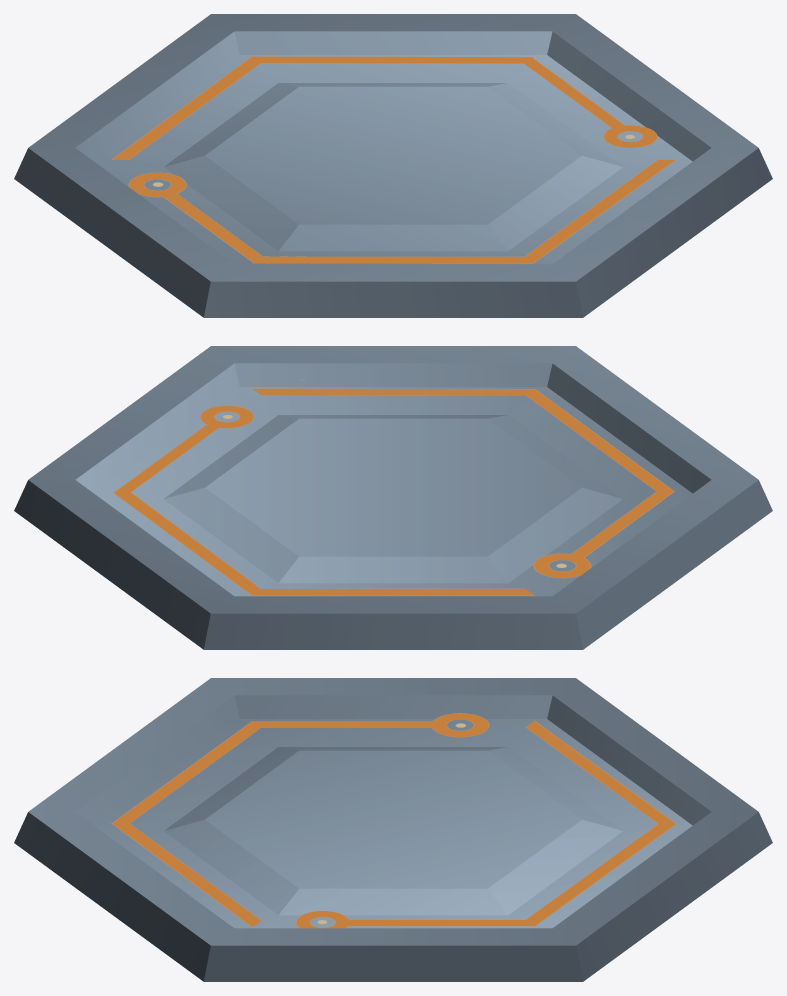
Rendered from MODEL_BaseHubProp.fbx.
The picture shows the model from 3 angles, top to bottom: view 1: azimuth 30°, elevation 25°; view 2: azimuth 150°, elevation 25°; view 3: azimuth 270°, elevation 25°; orthographic projection.
Visible parts, largest first — view 1: Cylinder; view 2: Cylinder; view 3: Cylinder.
Boxes of the visible parts, <box> form: Cylinder: <box>14,14,772,317</box>; Cylinder: <box>14,346,772,649</box>; Cylinder: <box>14,678,772,981</box>.
Bounding box in the file's own units: 578 × 30.16 × 668.
